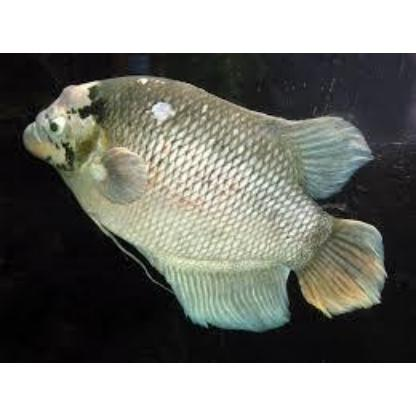gurame: (23, 76, 384, 328)
